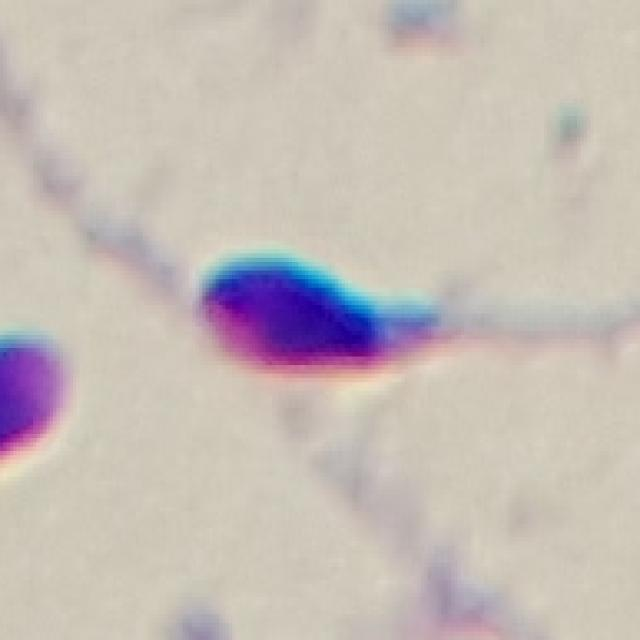abnormal sperm: (194, 247, 530, 390)
